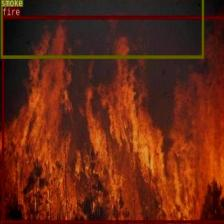fire: (1, 15, 224, 223)
smoke: (0, 0, 203, 57)
